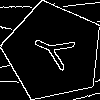Y: (28, 27, 85, 76)
